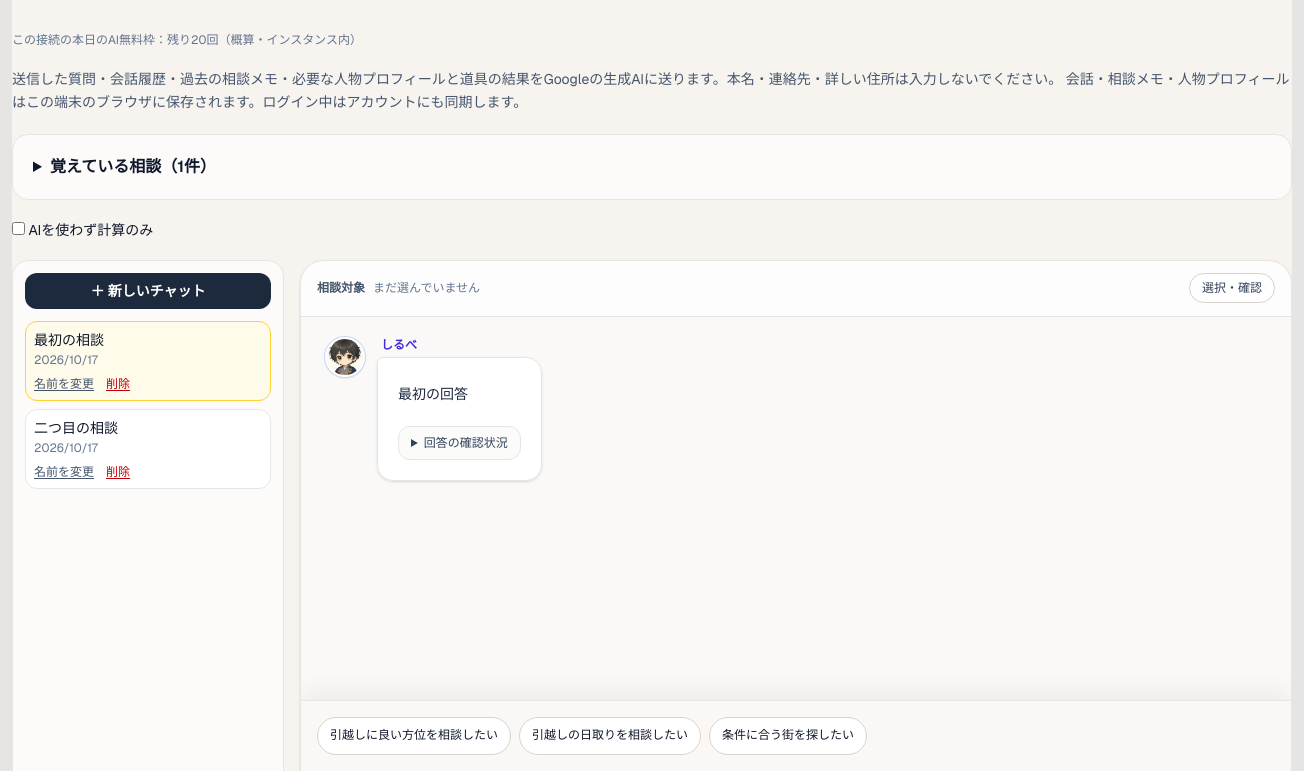
Test: 保存した会話を開き、名前変更と削除ができる
Check: the text "最初の回答" is shown, box x1=398 y1=384 x2=468 y2=402
Click the button "二つ目の相談 2026/10/17": x=148, y=436 x1=34 y1=418 x2=262 y2=456
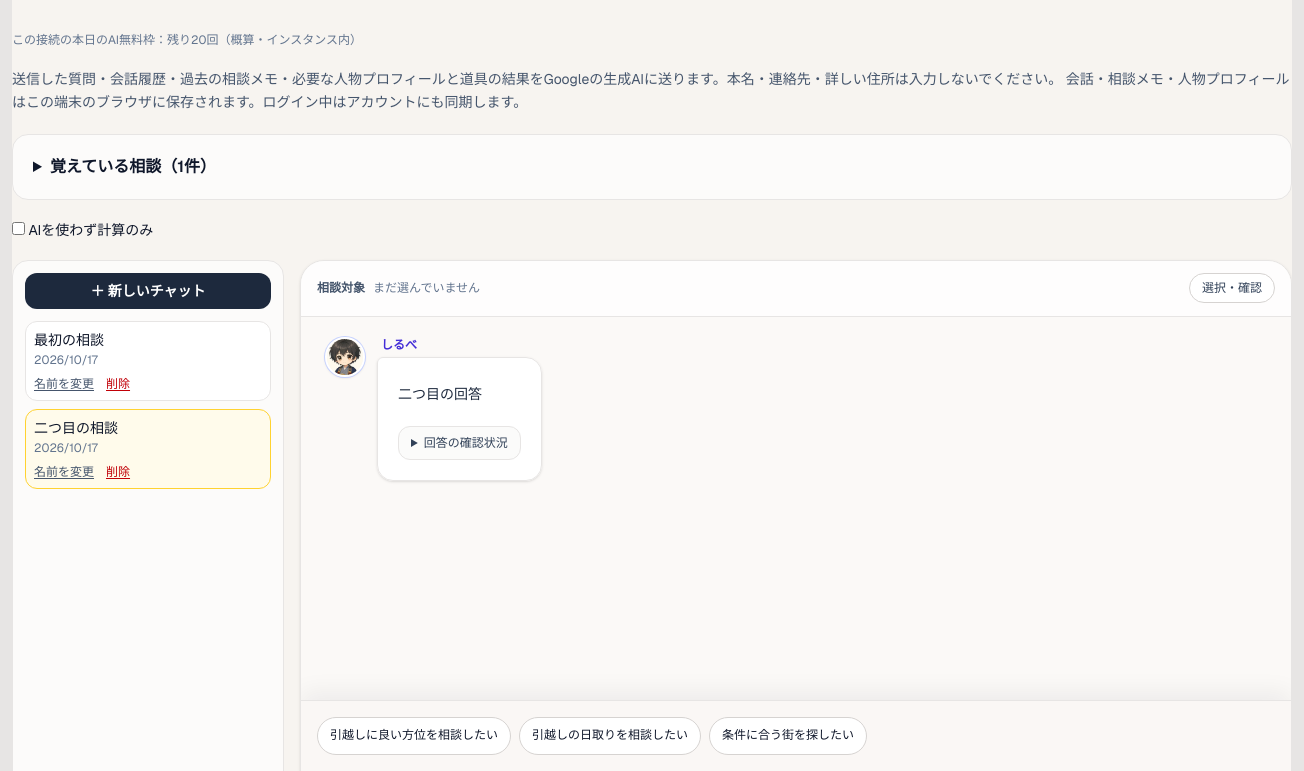
Check: the text "二つ目の回答" is shown, box x1=398 y1=384 x2=482 y2=402
Click the 2nd button "名前を変更": x=64, y=472 x1=34 y1=464 x2=94 y2=480
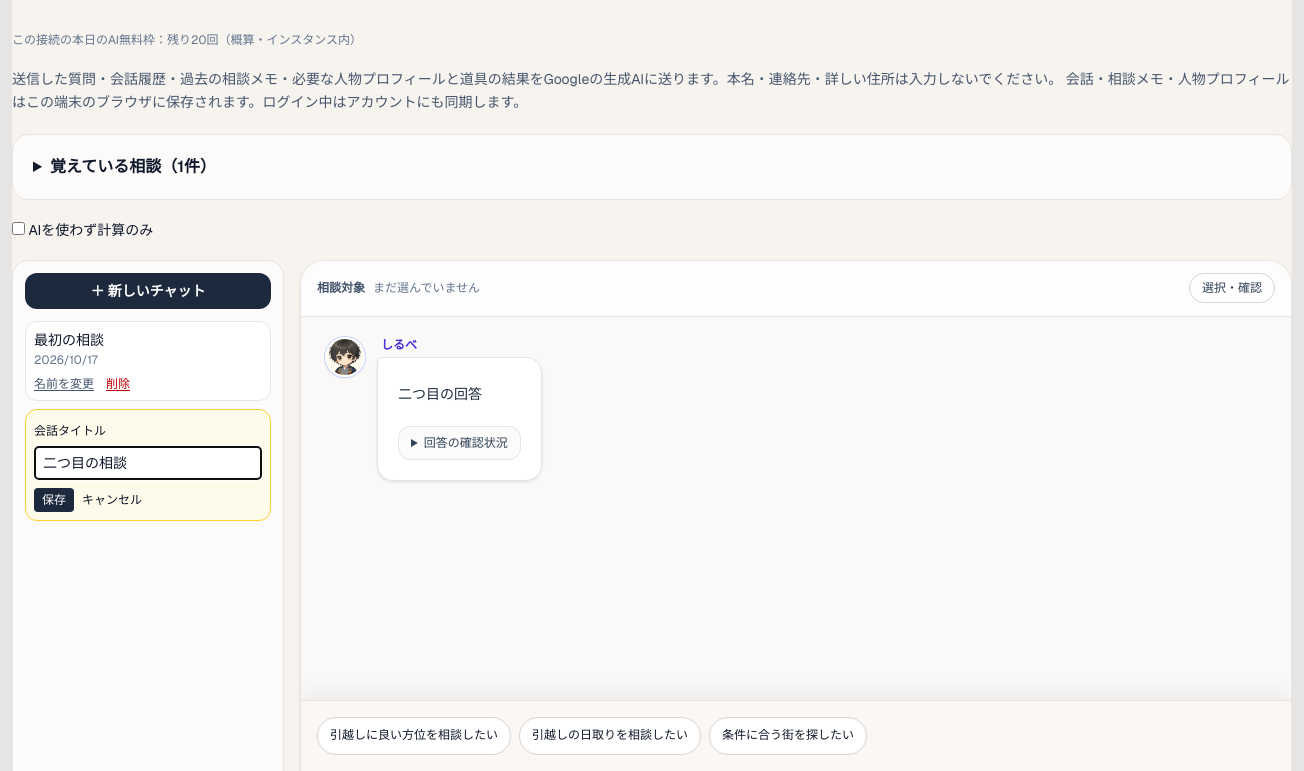
Replace the text in the field labelled "会話タイトル" with "家族の引越し": x=148, y=462 x1=34 y1=446 x2=262 y2=480
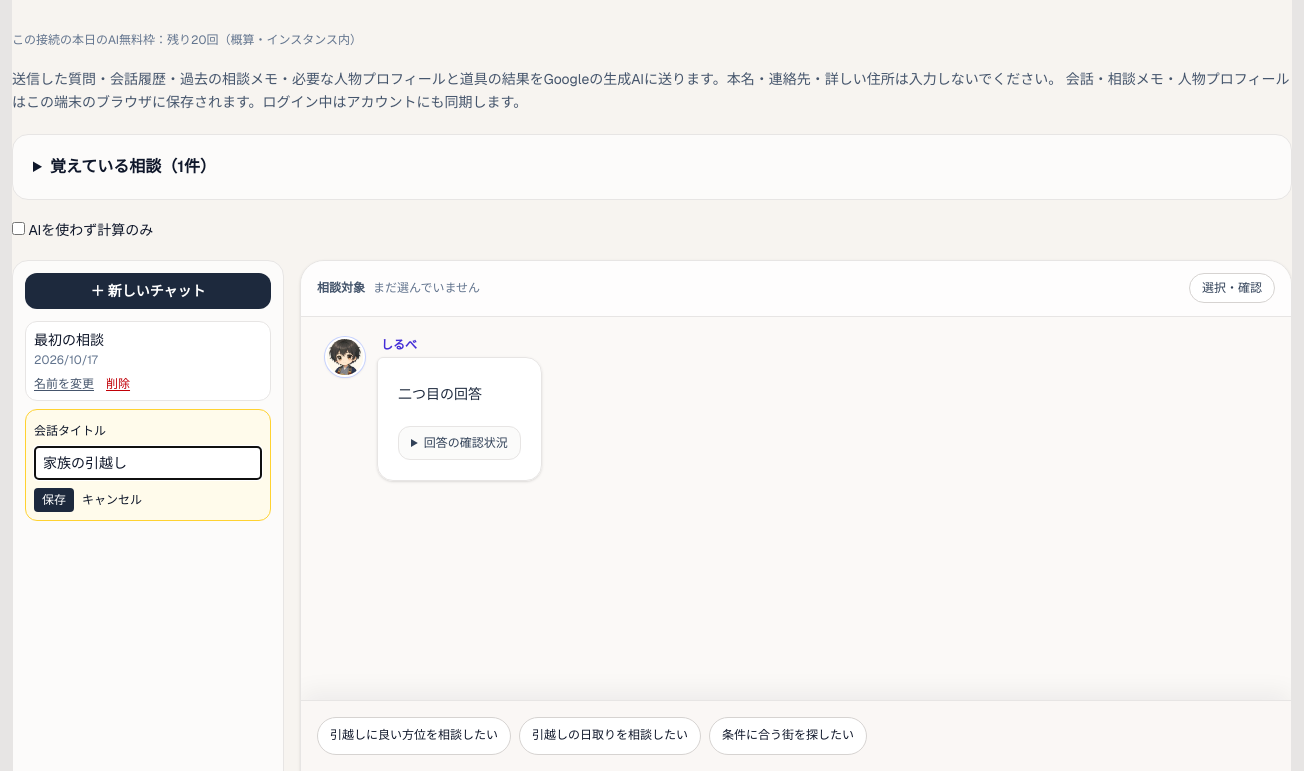
Click the button "保存": x=54, y=500 x1=34 y1=488 x2=74 y2=512
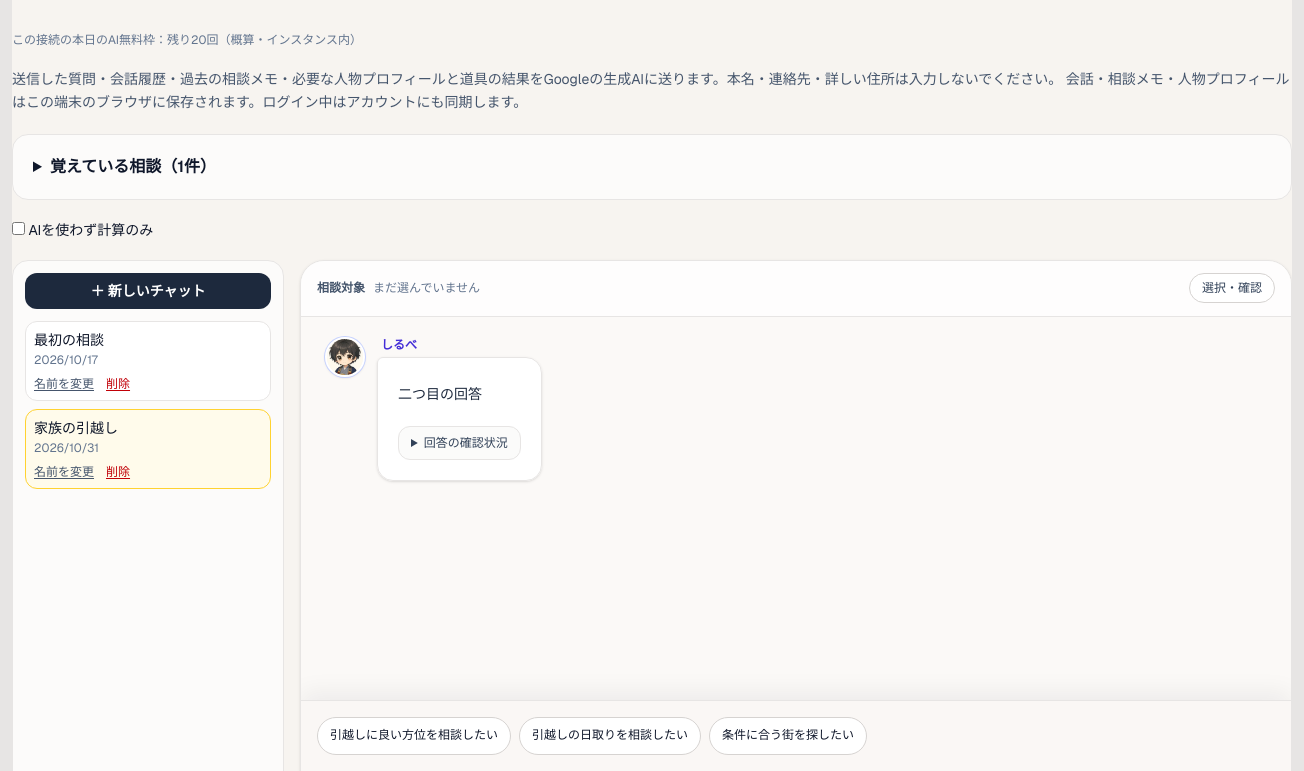
Check: the button "家族の引越し 2026/10/31" is shown, box x1=34 y1=418 x2=262 y2=456
Click the 2nd button "削除": x=118, y=472 x1=106 y1=464 x2=130 y2=480
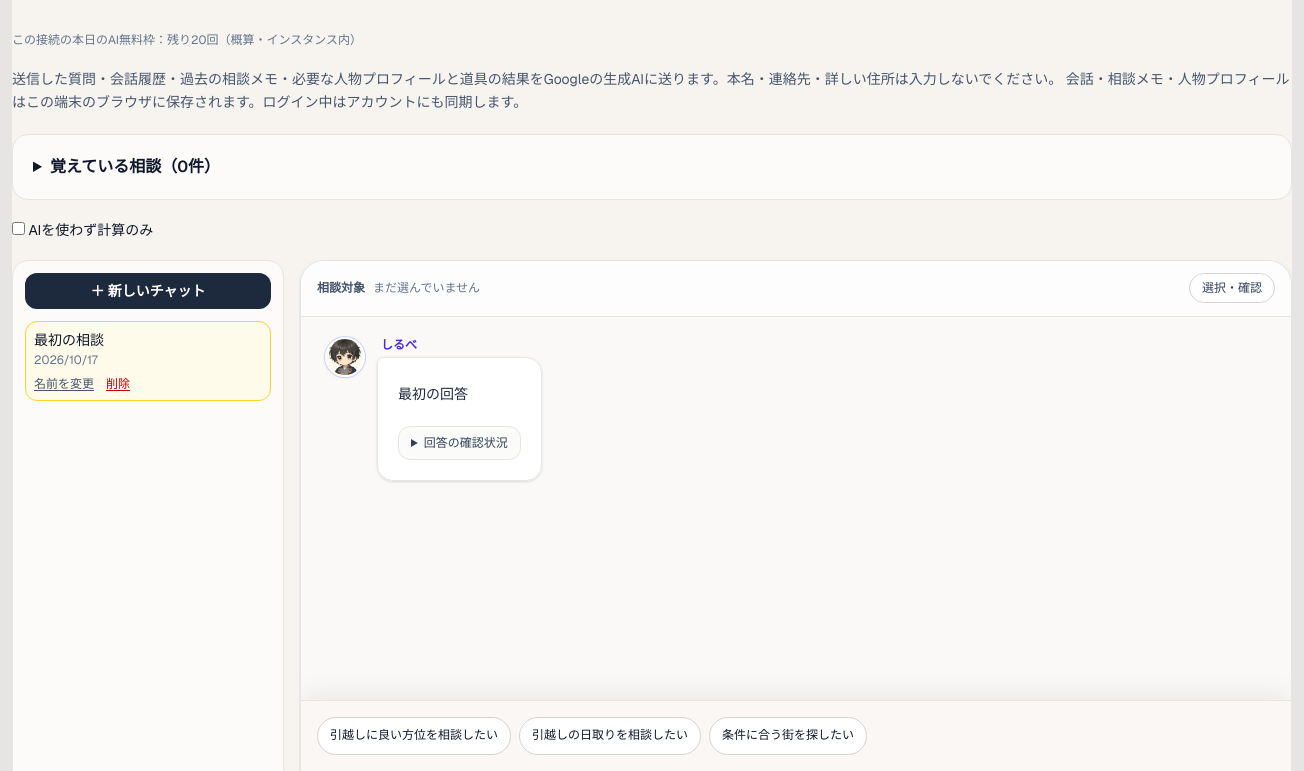
Check: the text "最初の相談" is shown, box x1=34 y1=330 x2=104 y2=348
Check: the text "最初の回答" is shown, box x1=398 y1=384 x2=468 y2=402
